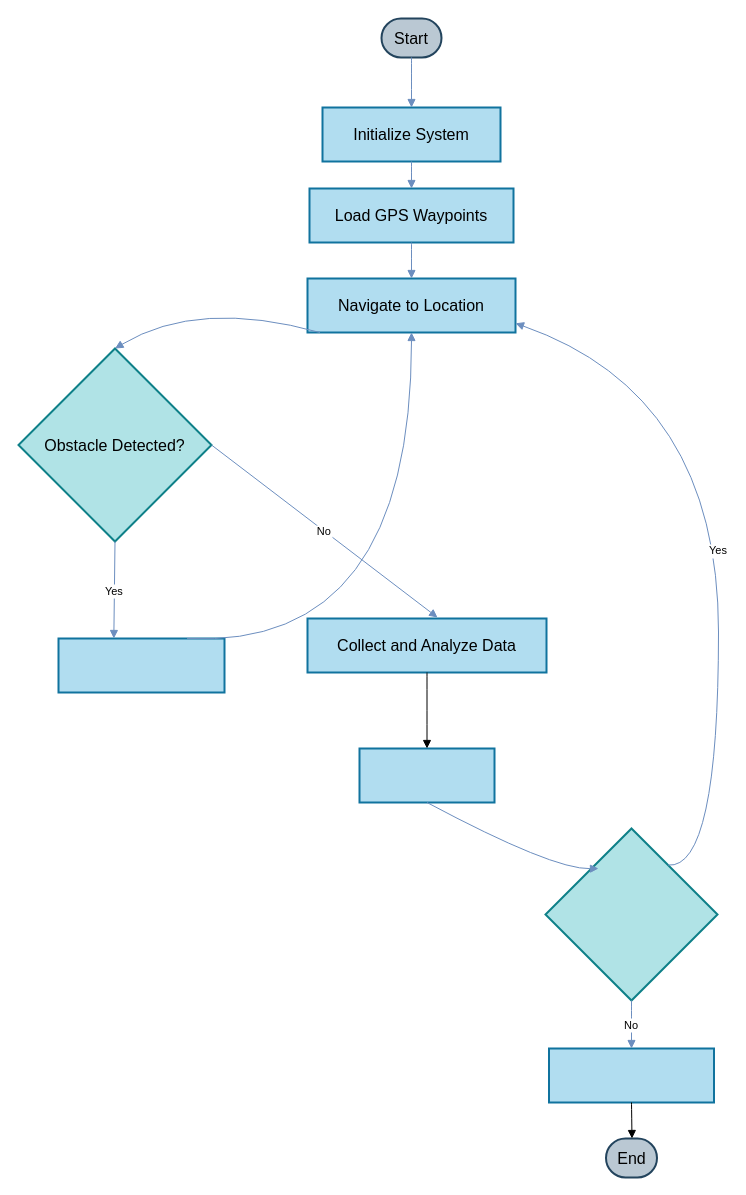
Some shapes in this 746 by 1195 pixel diagram are drawn without their labels. The shapes that lost their labels are listed below. From the top down, each one's centre as x and y in pixels, then its label:
point 141,665: Avoid Obstacle
point 426,775: Store Data
point 631,914: More Waypoints?
point 631,1075: Return to Base
